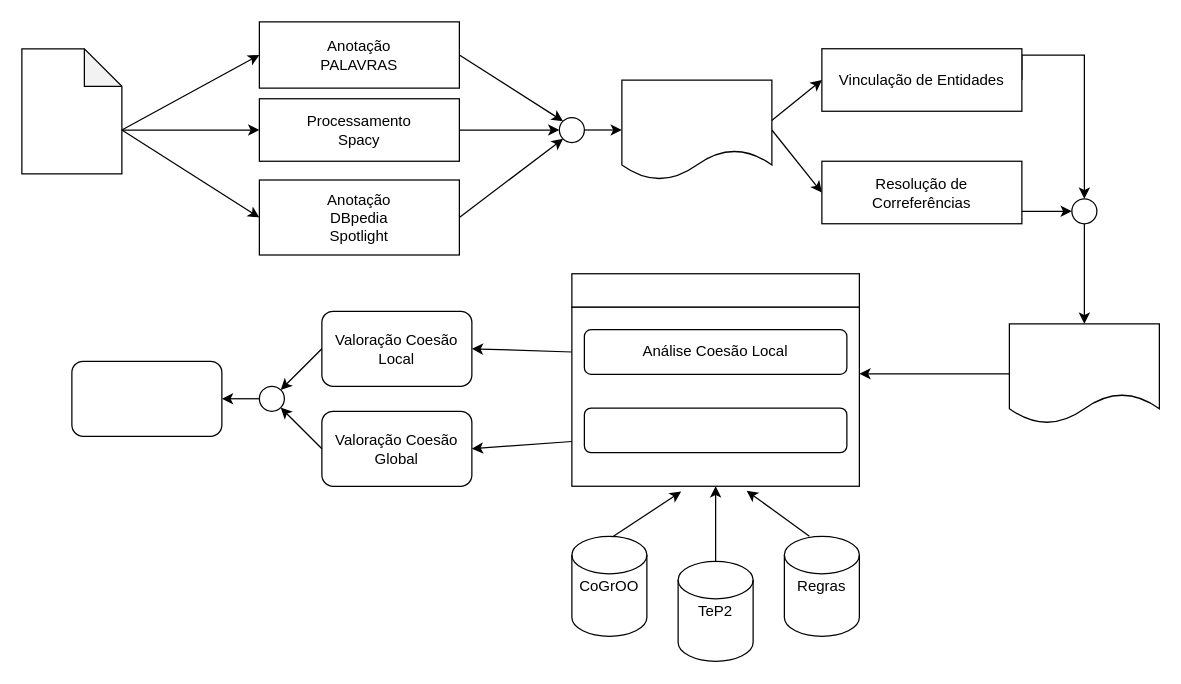
Some shapes in this 1181 by 684 pixel diagram are drawn without their labels. Here are the shapes that lost their labels. From the top down, the centre of each, then its label:
point (71, 111): Texto
point (696, 129): Objeto Documento
point (715, 289): Análise TC/TF
point (1083, 373): Objeto Análise Documento
point (146, 398): Valor Coesão
point (715, 430): Análise Coesão Global
